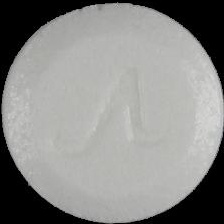55695-013: (0, 0, 224, 224)
